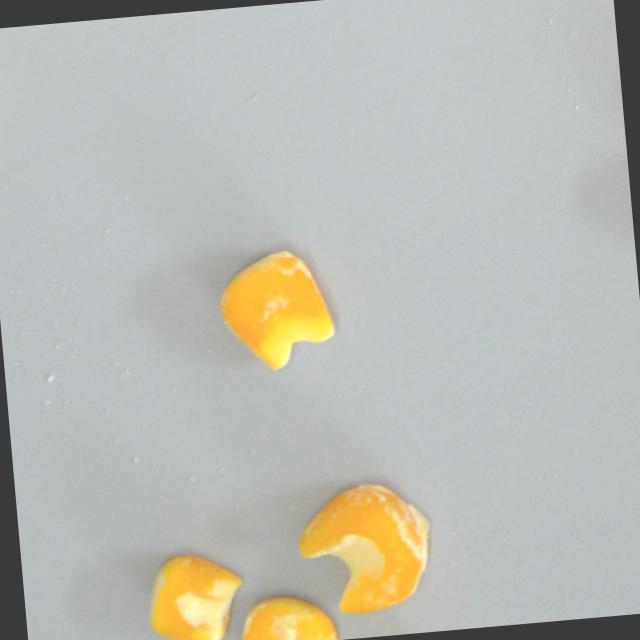dañado: (289, 471, 440, 619), (138, 543, 250, 640)
pelicula: (209, 240, 338, 378), (232, 590, 340, 640)
